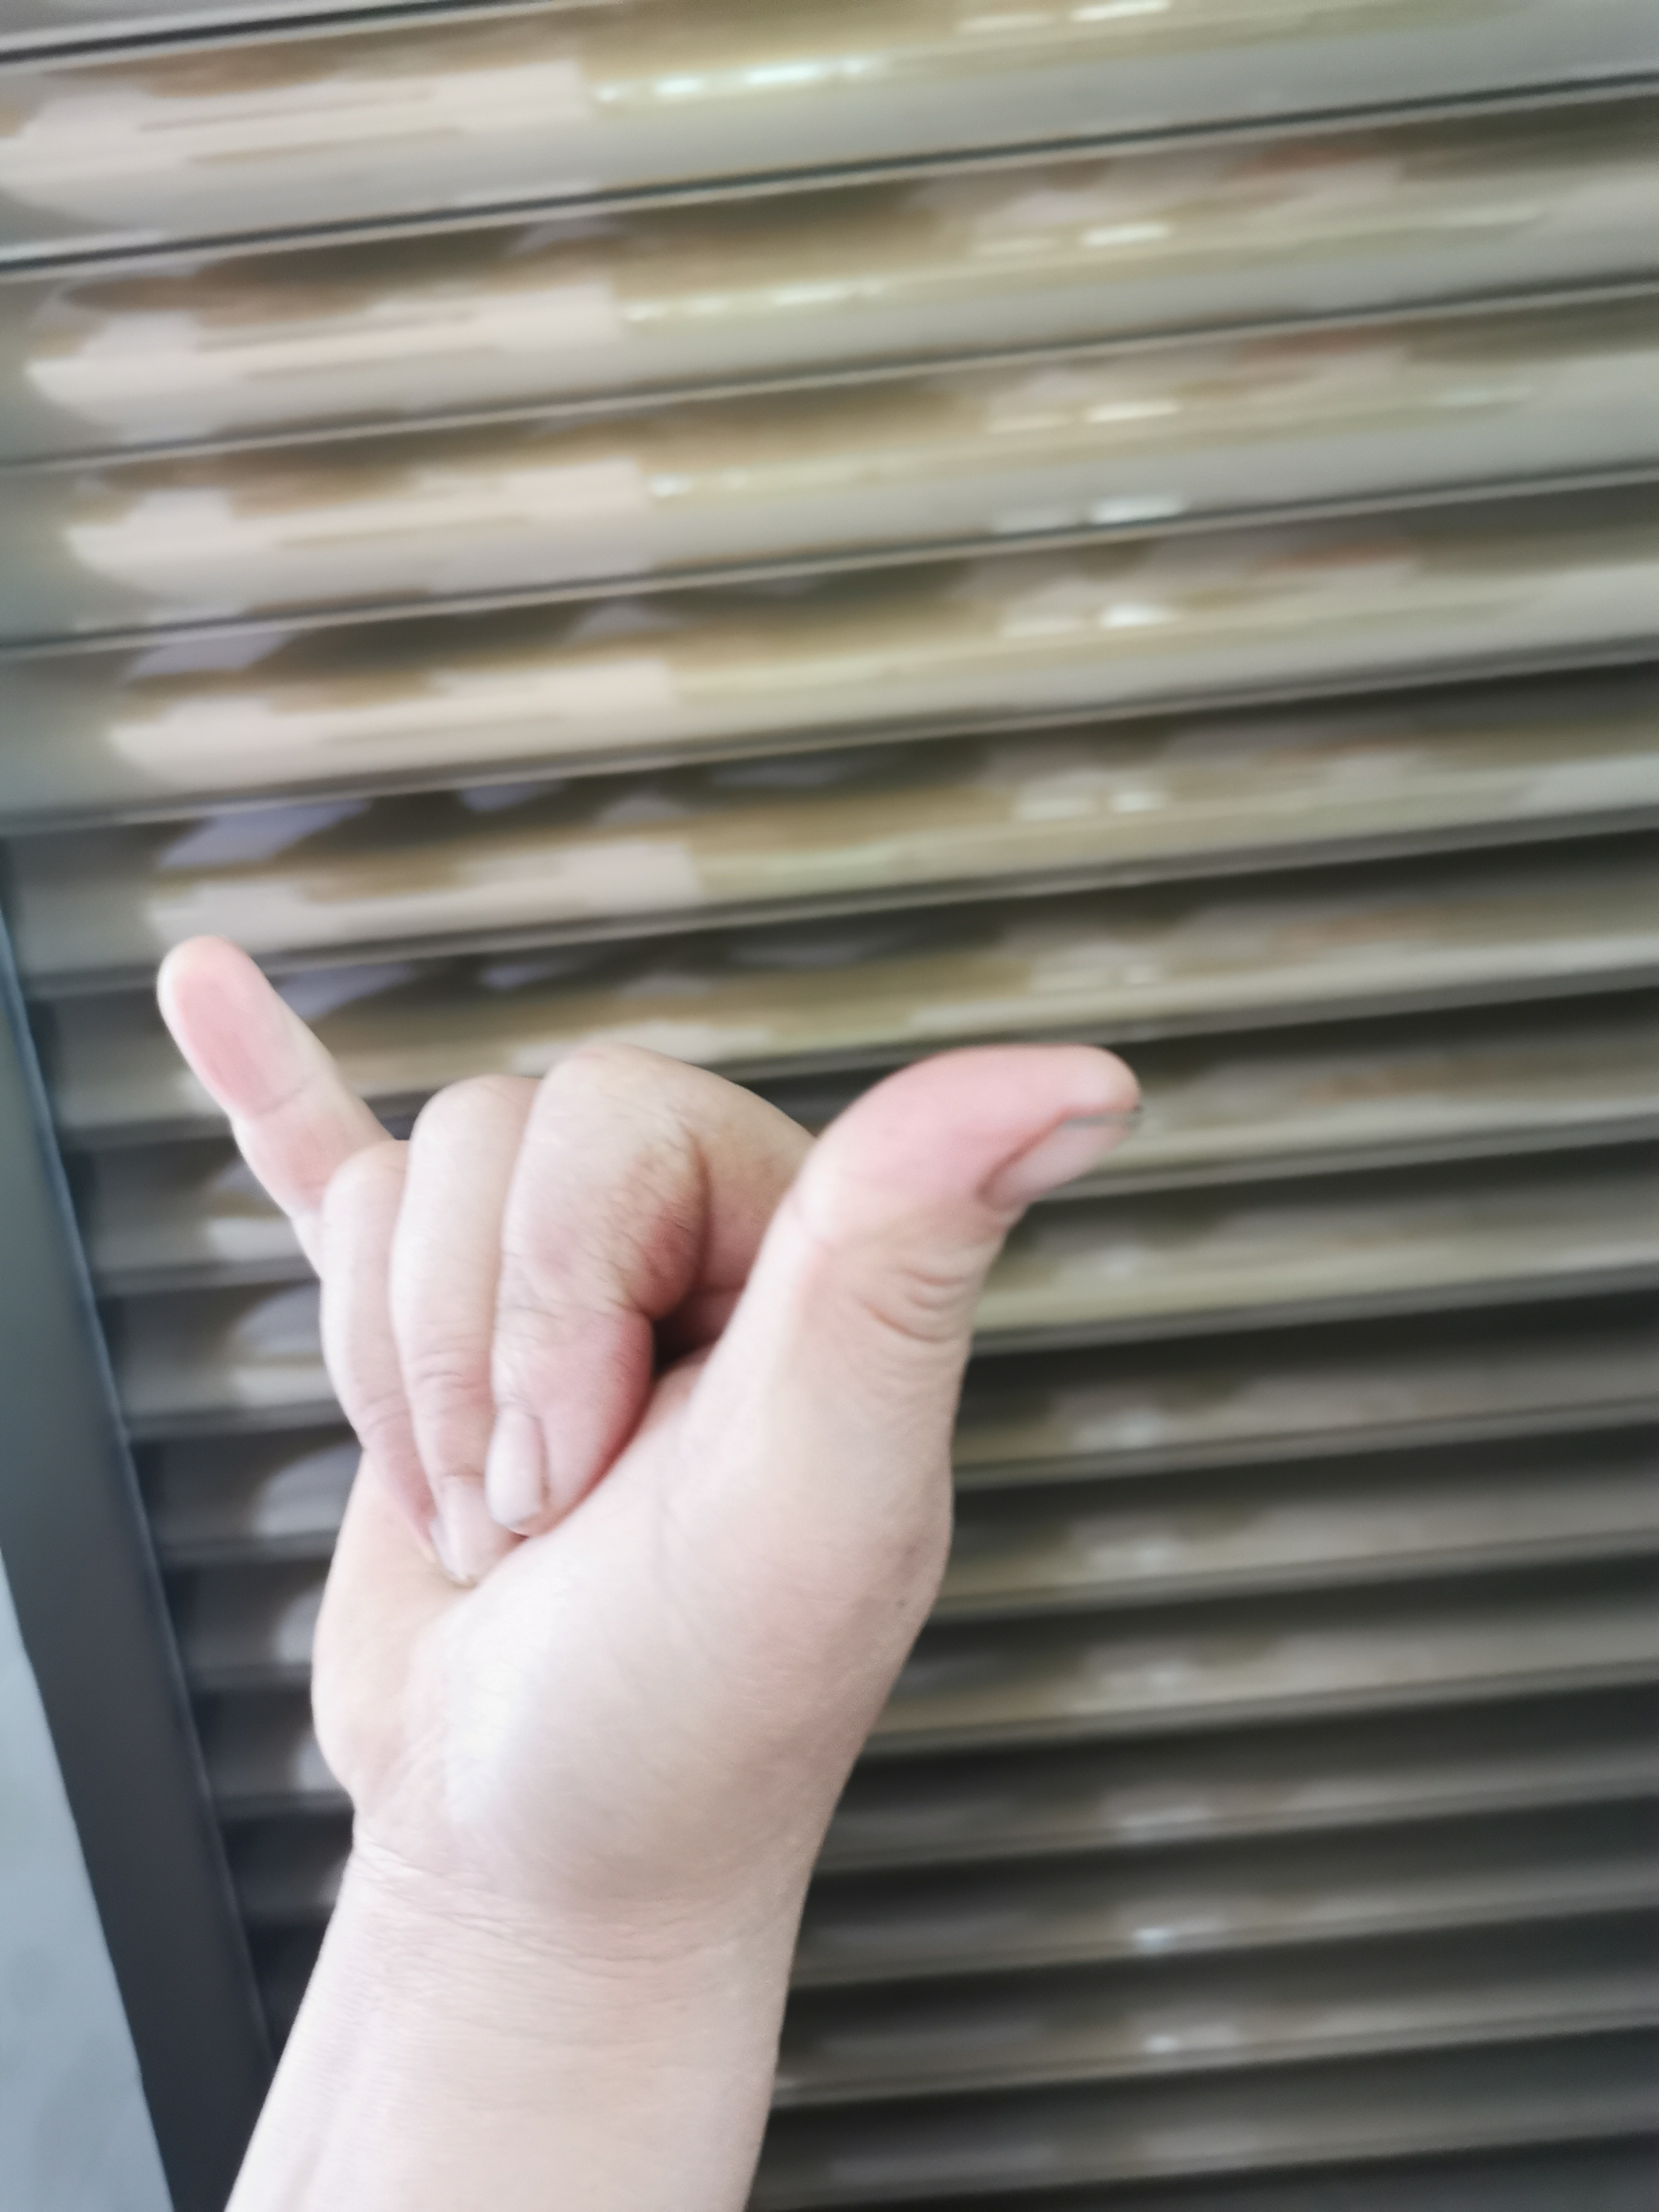clockwise: (132, 900, 1197, 1902)
